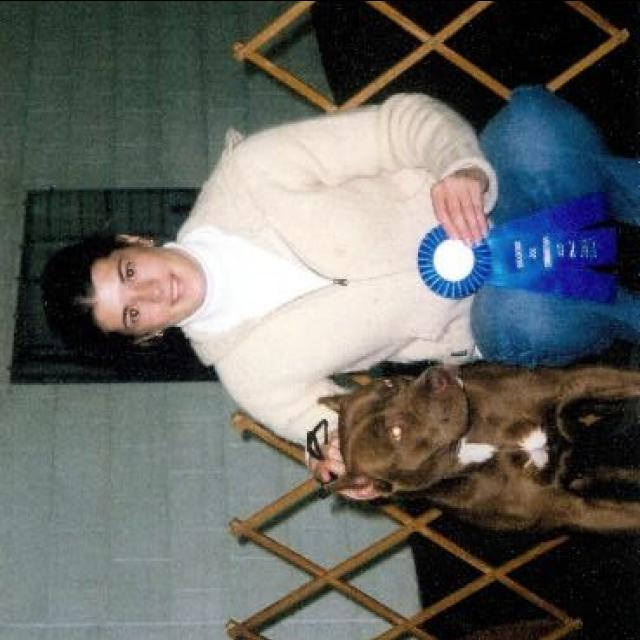staffordshire_bullterrier: (319, 362, 638, 538)
